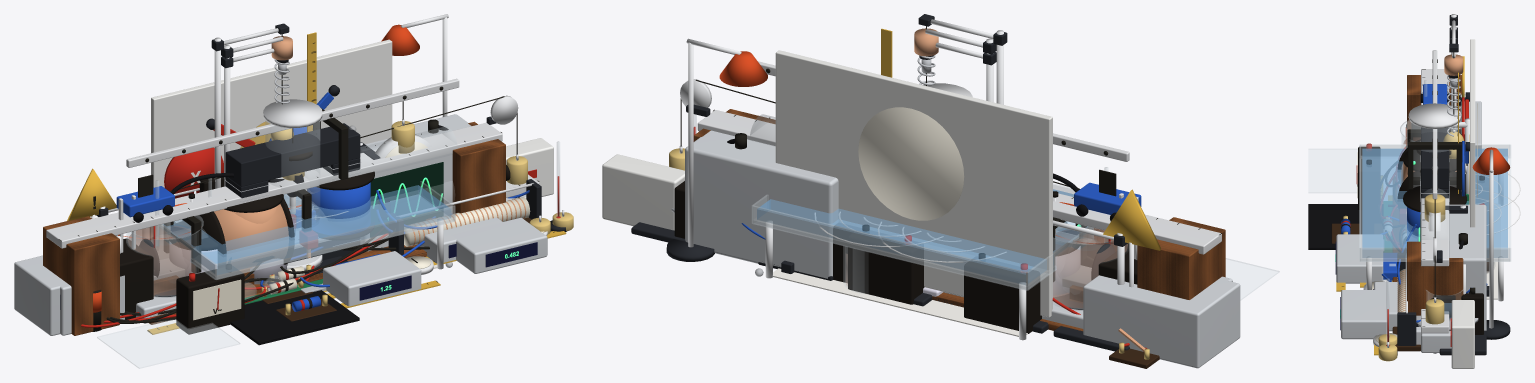
File: bench-phys.glb
The picture shows the model from 3 angles, left to right: view 1: azimuth 30°, elevation 25°; view 2: azimuth 150°, elevation 25°; view 3: azimuth 270°, elevation 25°; orthographic projection. The views are drawn at different scales.
Parts seen in each view (by area): view 1: Set_NEWTON2, Set_TRANSFORMER, Set_FORCE_COMPOSITION, Set_WAVE_INTERFERENCE, Set_FRICTION, Set_CHARLES, Set_BOYLE, Set_SOUND_FREQUENCY, Set_SPEED, Set_SAFETY, Set_EM_INDUCTION, Set_LEVER_MOMENT (+12 smaller); view 2: Set_FORCE_COMPOSITION, Set_WAVE_INTERFERENCE, Set_SOUND_FREQUENCY, Set_NEWTON2, Set_PENDULUM_G, Set_EMF_INTERNAL_R, Set_SAFETY, Set_OHM_LAW, Set_CAPACITOR_RC, Set_CHARLES, Set_SPECIFIC_HEAT, Set_LATENT_HEAT_FUSION (+8 smaller); view 3: Set_WAVE_INTERFERENCE, Set_NEWTON2, Set_TRANSFORMER, Set_FRICTION, Set_SPEED, Set_SAFETY, Set_SOUND_FREQUENCY, Set_BOYLE, Set_LEVER_MOMENT, Set_EMF_INTERNAL_R, Set_FORCE_COMPOSITION, Set_CHARLES (+12 smaller).
Part boxes in pixels (x1=…): Set_NEWTON2: x1=43, y1=95, x2=518, y2=335; Set_TRANSFORMER: x1=20, y1=123, x2=437, y2=335; Set_FORCE_COMPOSITION: x1=151, y1=39, x2=392, y2=259; Set_WAVE_INTERFERENCE: x1=96, y1=14, x2=455, y2=308; Set_FRICTION: x1=97, y1=245, x2=426, y2=368; Set_CHARLES: x1=126, y1=127, x2=457, y2=323; Set_BOYLE: x1=263, y1=99, x2=431, y2=284; Set_SOUND_FREQUENCY: x1=118, y1=114, x2=471, y2=296; Set_SPEED: x1=154, y1=174, x2=547, y2=280; Set_SAFETY: x1=67, y1=119, x2=553, y2=299; Set_EM_INDUCTION: x1=182, y1=197, x2=388, y2=289; Set_LEVER_MOMENT: x1=126, y1=78, x2=573, y2=329; Set_FORCE_COMPOSITION: x1=775, y1=50, x2=1052, y2=317; Set_WAVE_INTERFERENCE: x1=666, y1=38, x2=1129, y2=351; Set_SOUND_FREQUENCY: x1=685, y1=130, x2=1138, y2=302; Set_NEWTON2: x1=680, y1=79, x2=1225, y2=299; Set_PENDULUM_G: x1=858, y1=14, x2=1007, y2=301; Set_EMF_INTERNAL_R: x1=848, y1=224, x2=1159, y2=368; Set_SAFETY: x1=602, y1=133, x2=1160, y2=287; Set_OHM_LAW: x1=674, y1=181, x2=1191, y2=365; Set_CAPACITOR_RC: x1=1107, y1=281, x2=1233, y2=368; Set_CHARLES: x1=750, y1=114, x2=1128, y2=328; Set_SPECIFIC_HEAT: x1=671, y1=208, x2=1175, y2=363; Set_LATENT_HEAT_FUSION: x1=843, y1=191, x2=1081, y2=296; Set_WAVE_INTERFERENCE: x1=1336, y1=94, x2=1520, y2=339; Set_NEWTON2: x1=1335, y1=69, x2=1463, y2=315; Set_TRANSFORMER: x1=1356, y1=103, x2=1469, y2=317; Set_FRICTION: x1=1308, y1=149, x2=1401, y2=281; Set_SPEED: x1=1340, y1=129, x2=1461, y2=339; Set_SAFETY: x1=1383, y1=56, x2=1474, y2=368; Set_SOUND_FREQUENCY: x1=1418, y1=204, x2=1486, y2=330; Set_BOYLE: x1=1404, y1=103, x2=1461, y2=252; Set_LEVER_MOMENT: x1=1378, y1=50, x2=1469, y2=361; Set_EMF_INTERNAL_R: x1=1392, y1=124, x2=1488, y2=351; Set_FORCE_COMPOSITION: x1=1465, y1=39, x2=1489, y2=296; Set_CHARLES: x1=1398, y1=80, x2=1467, y2=242.
Size of the model in its own units: 5.7 by 2.86 by 2.26.
Materials: 50 (1 with a texture image).
